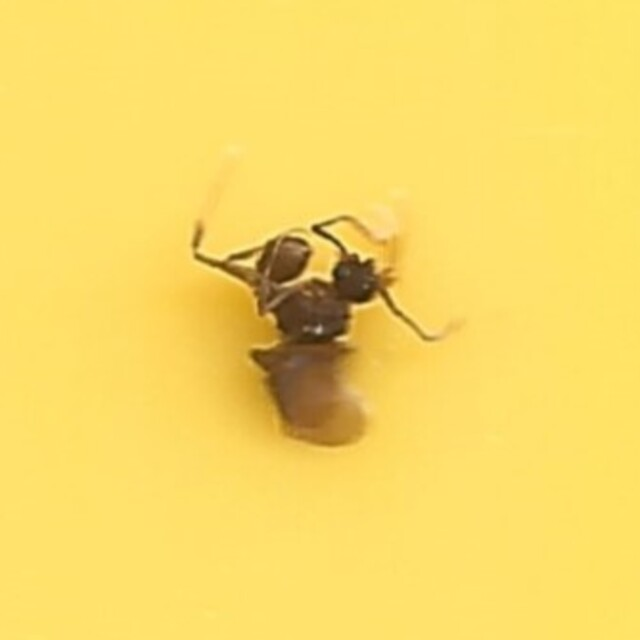Hymenoptera: (192, 188, 448, 452)
